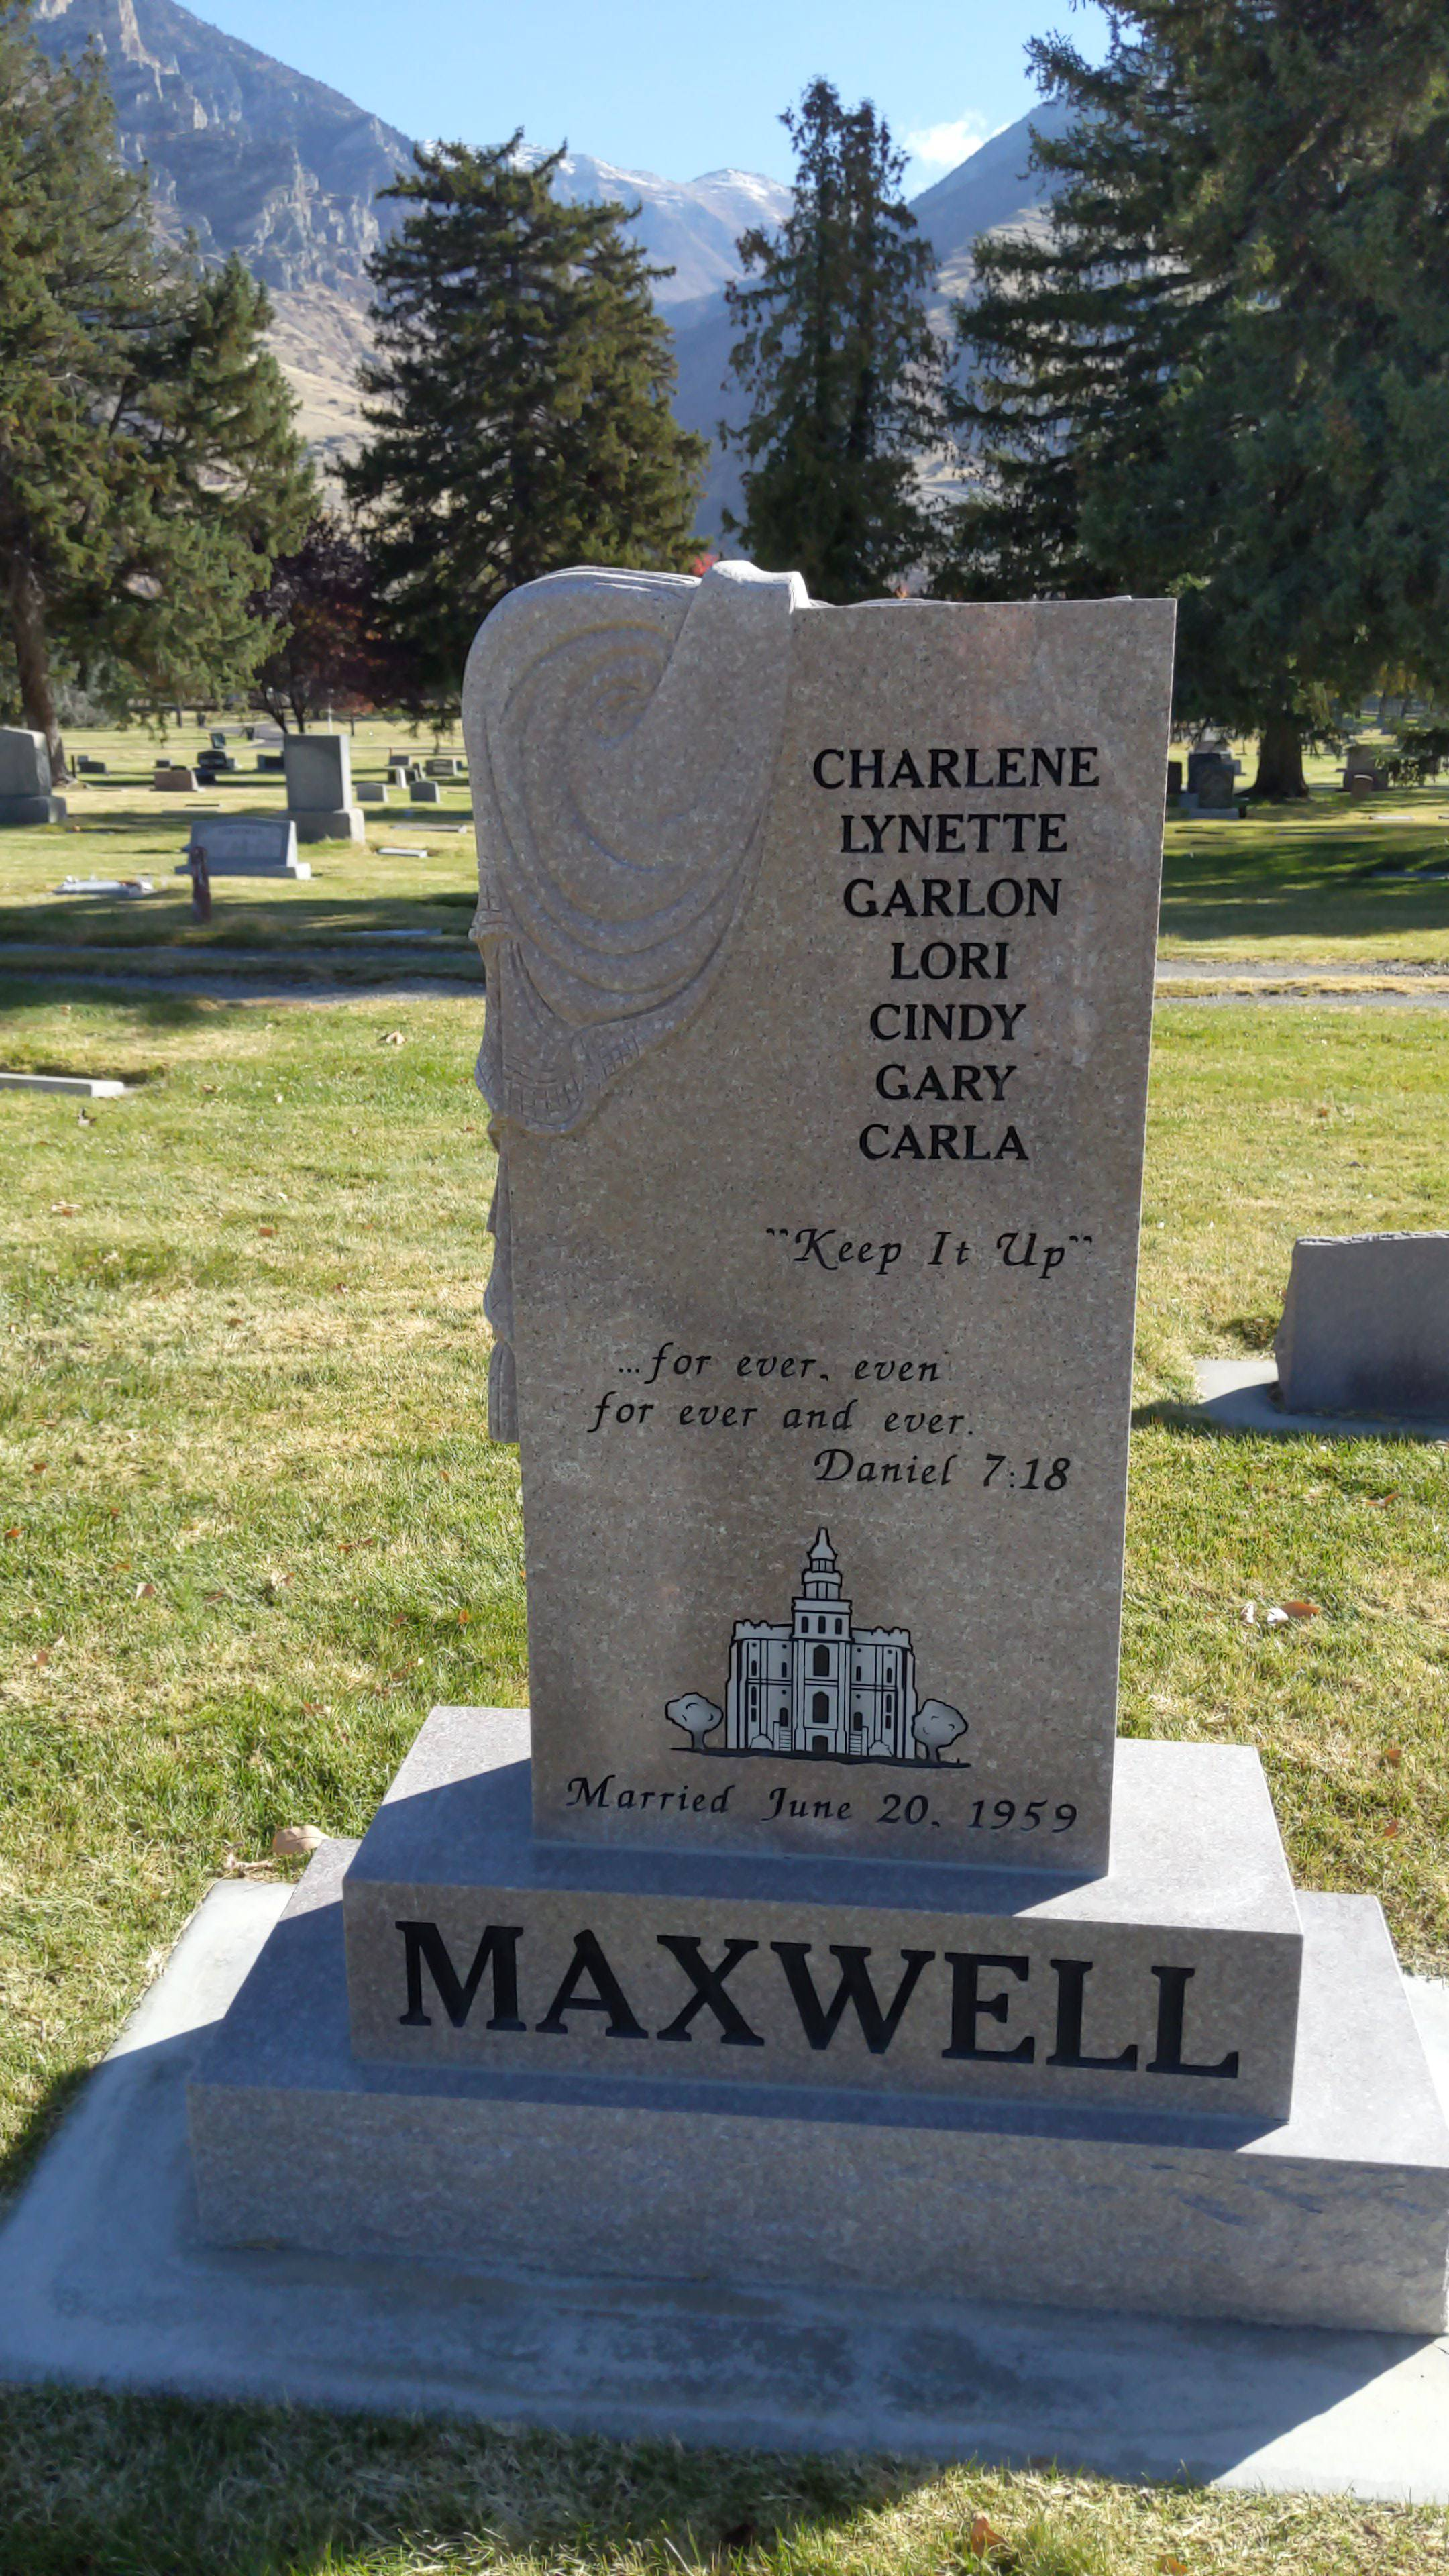upright: (349, 568, 1295, 2127)
